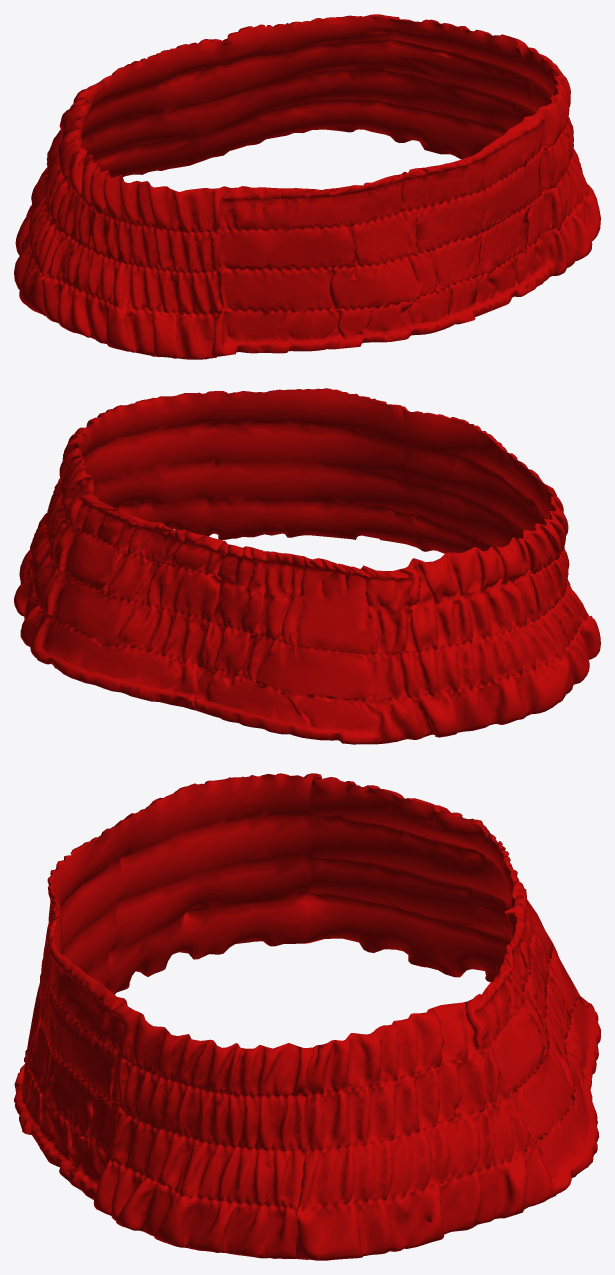
The model's file is BX_0_WAIST_4_inch_waist.glb.
3 renders of one model, top to bottom at view 1: azimuth 30°, elevation 25°; view 2: azimuth 150°, elevation 25°; view 3: azimuth 270°, elevation 25°, orthographic. The views are drawn at different scales.
Parts seen in each view (by area): view 1: BX_0_WAIST_4_inch_waist; view 2: BX_0_WAIST_4_inch_waist; view 3: BX_0_WAIST_4_inch_waist.
Boxes of the visible parts, x1,y1,x2,y2 form: BX_0_WAIST_4_inch_waist: (14,14,600,359); BX_0_WAIST_4_inch_waist: (14,388,600,744); BX_0_WAIST_4_inch_waist: (14,773,600,1260).
Size of the model in its own units: 3.81 by 1.1 by 2.87.
